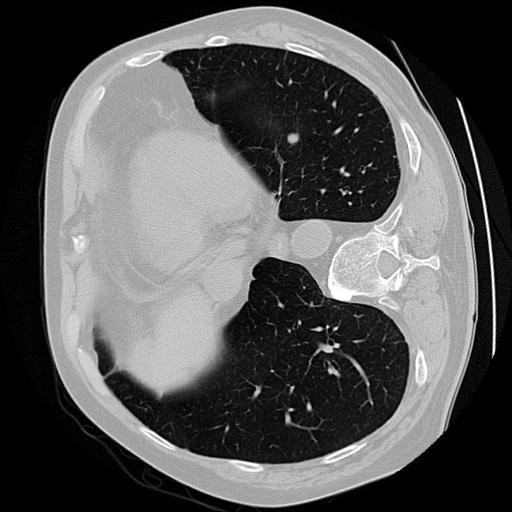nodule: (284, 129, 303, 148)
